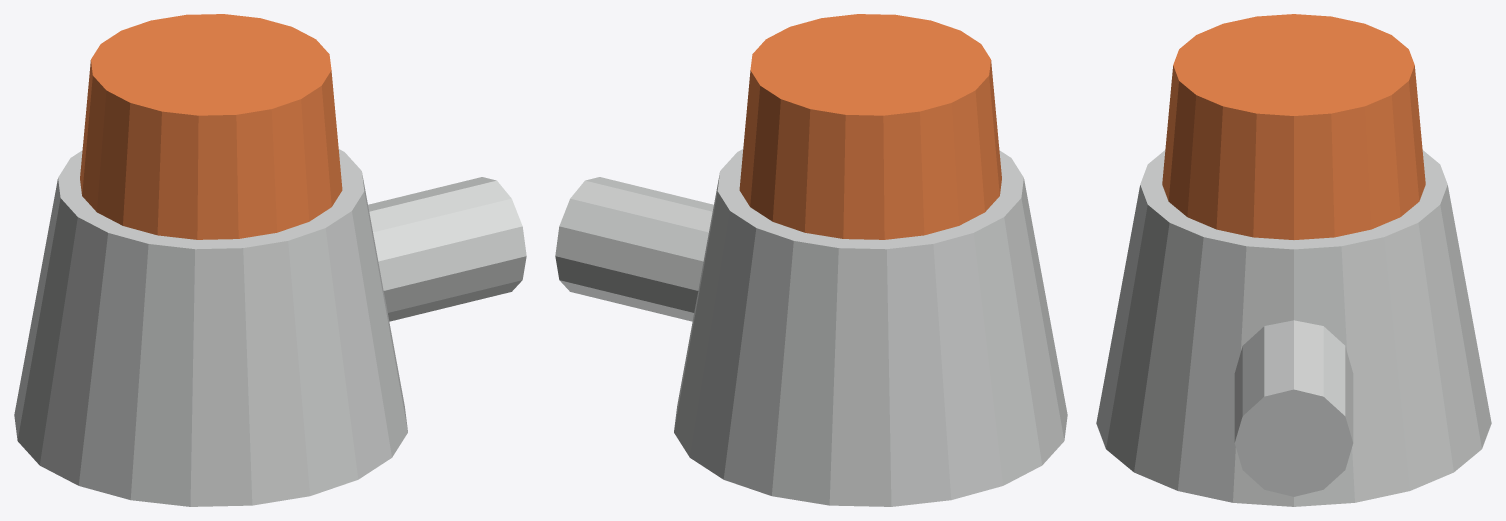
File: powerboat-racing-and-launch-ramp-bilge-pump-ee3247d1__22303.glb
The picture shows the model from 3 angles, left to right: view 1: azimuth 30°, elevation 25°; view 2: azimuth 150°, elevation 25°; view 3: azimuth 270°, elevation 25°; orthographic projection.
Parts seen in each view (by area): view 1: bilge-pump; view 2: bilge-pump; view 3: bilge-pump.
Boxes of the visible parts, <box> form: bilge-pump: <box>14,14,526,506</box>; bilge-pump: <box>555,14,1067,506</box>; bilge-pump: <box>1096,14,1491,506</box>.
Size of the model in its own units: 0.24 by 0.18 by 0.18.
